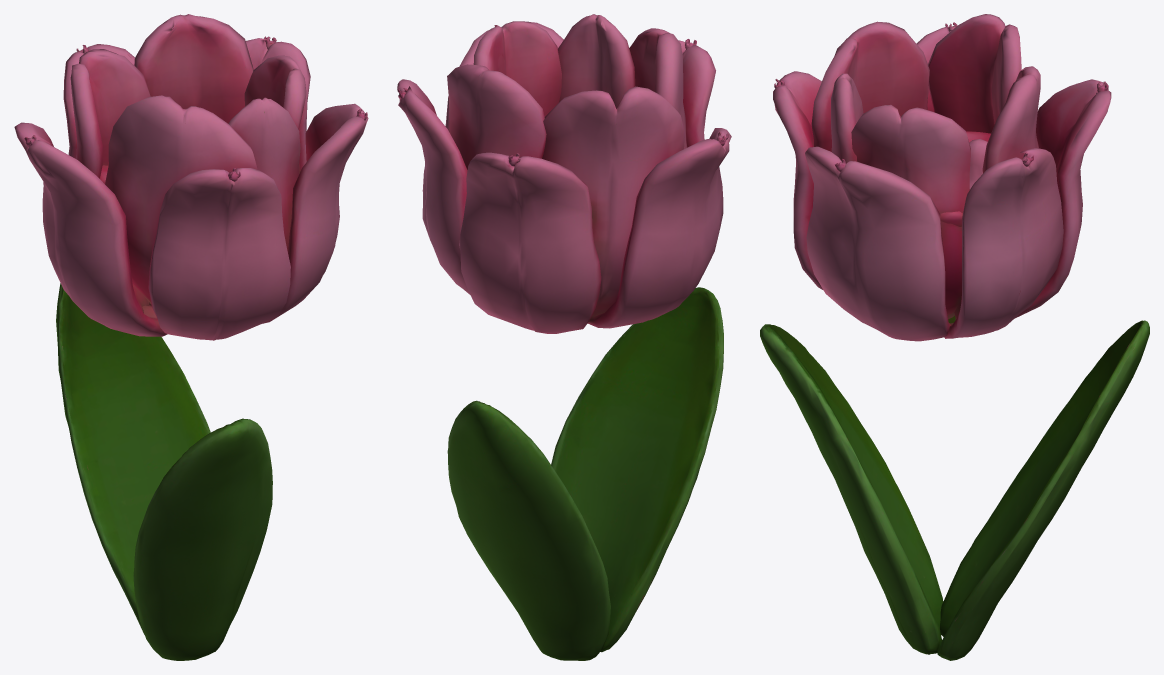
File: r33-tulip.glb
3 views of the same model, side by side, from view 1: azimuth 30°, elevation 25°; view 2: azimuth 150°, elevation 25°; view 3: azimuth 270°, elevation 25° (orthographic).
Parts seen in each view (by area): view 1: tripo_node_42ddc69b-2b9a-4e5b-a181-41b48303baab; view 2: tripo_node_42ddc69b-2b9a-4e5b-a181-41b48303baab; view 3: tripo_node_42ddc69b-2b9a-4e5b-a181-41b48303baab.
Boxes of the visible parts, x1,y1,x2,y2 form: tripo_node_42ddc69b-2b9a-4e5b-a181-41b48303baab: (14, 14, 368, 660); tripo_node_42ddc69b-2b9a-4e5b-a181-41b48303baab: (397, 14, 731, 660); tripo_node_42ddc69b-2b9a-4e5b-a181-41b48303baab: (760, 14, 1149, 660).
Bounding box in the file's own units: 0.5293 × 0.998 × 0.5918.
1 material, 1 textured.
